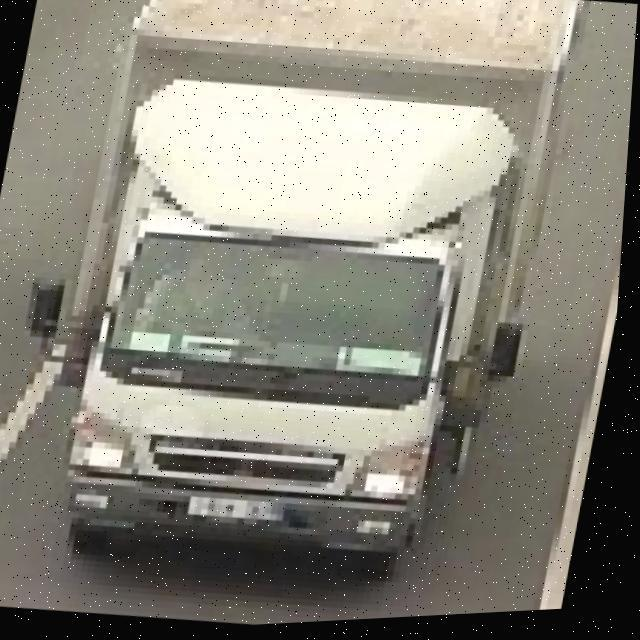truck: (0, 0, 587, 613)
